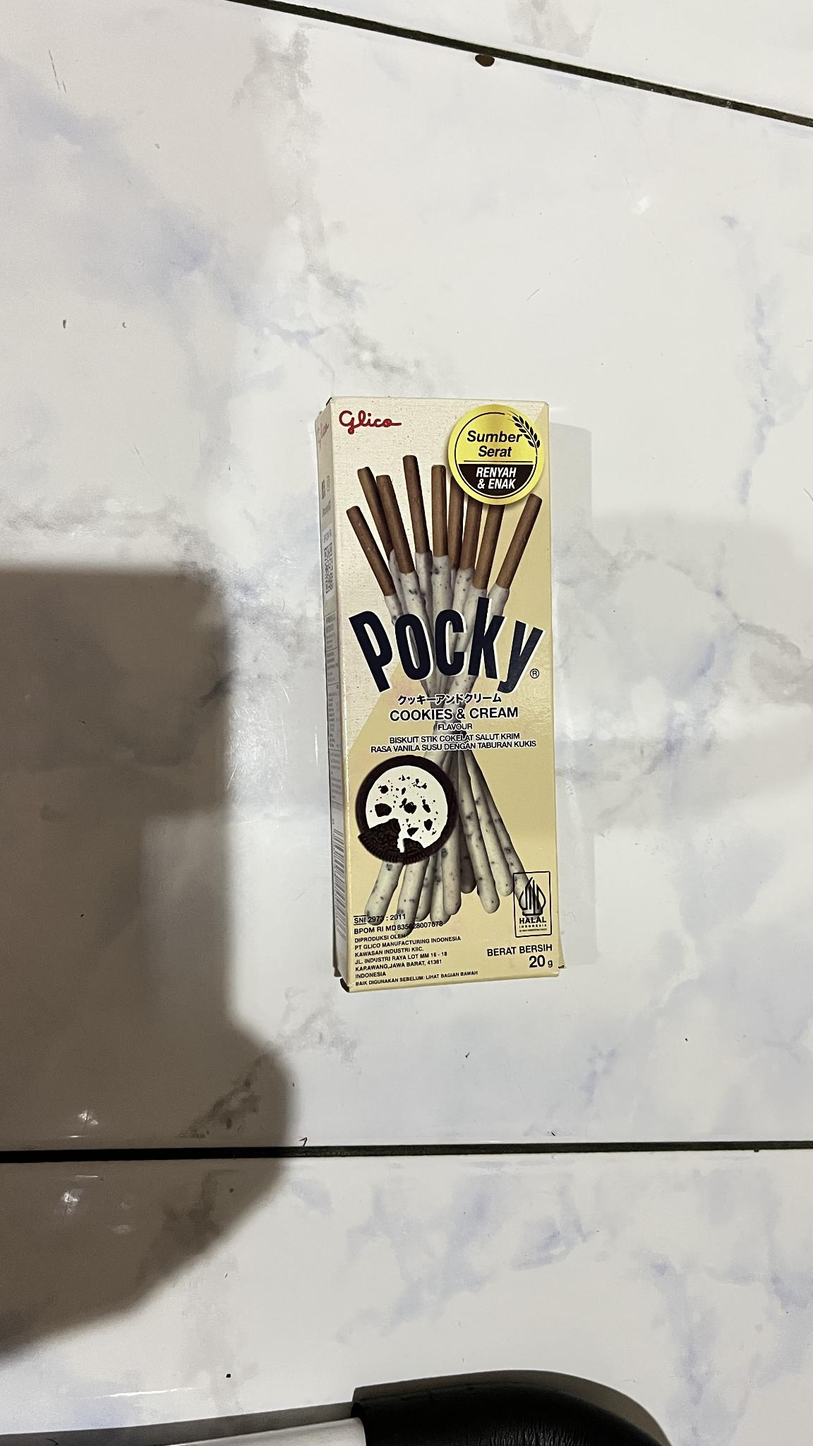Kertas: (319, 409, 556, 993)
